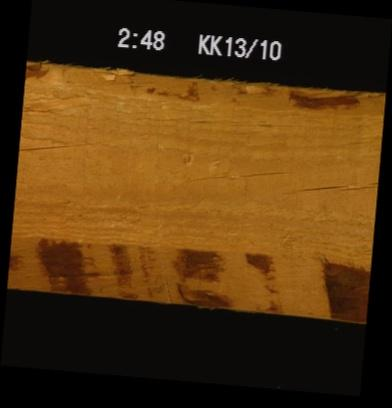split: (185, 161, 287, 182), (18, 133, 107, 157), (290, 176, 375, 197)
wave: (8, 247, 367, 310), (24, 72, 384, 104)
